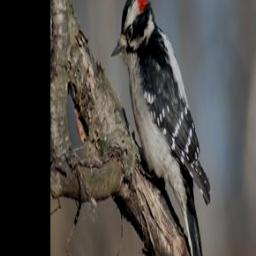Woodpecker: (109, 0, 212, 256)
